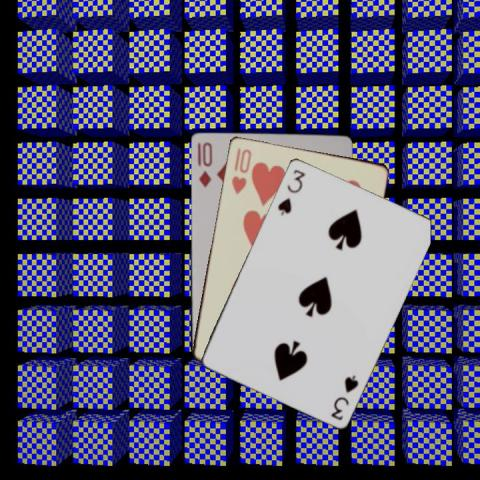10d: (196, 139, 213, 189)
10h: (228, 145, 253, 195)
3s: (274, 166, 306, 217), (328, 372, 360, 422)
